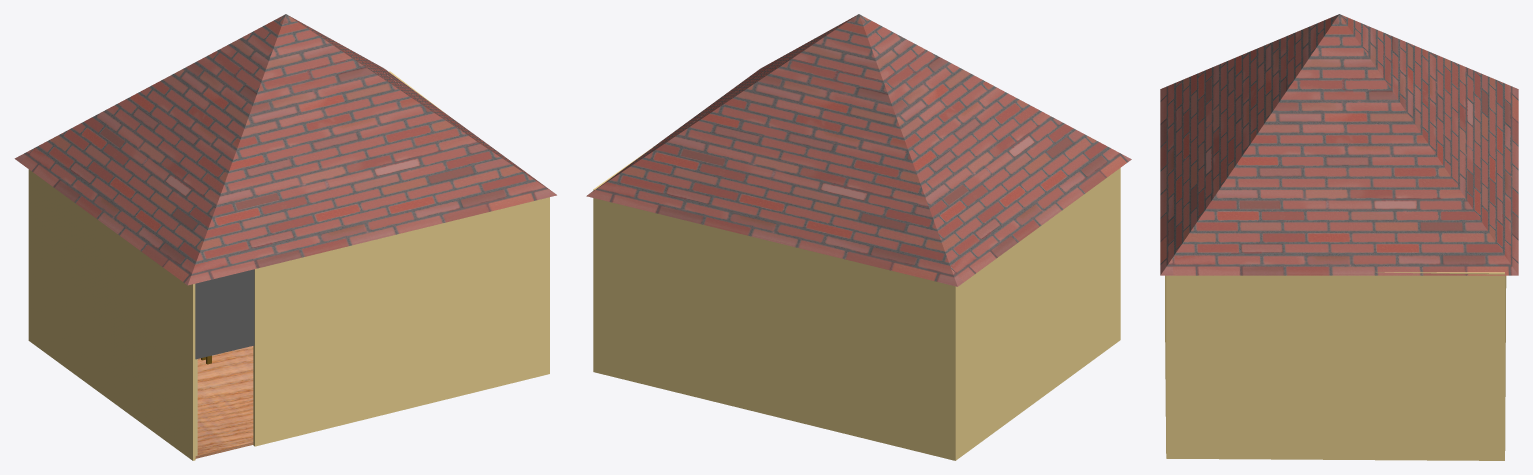
File: house.FBX
The picture shows the model from 3 angles, left to right: view 1: azimuth 30°, elevation 25°; view 2: azimuth 150°, elevation 25°; view 3: azimuth 270°, elevation 25°; orthographic projection. The views are drawn at different scales.
Parts seen in each view (by area): view 1: Wall115, Pyramid017, Box338, Wall121; view 2: Wall115, Pyramid017; view 3: Pyramid017, Wall115.
Part boxes in pixels (<box>): Wall115: <box>28,71,549,460</box>; Pyramid017: <box>14,14,556,285</box>; Box338: <box>195,346,253,458</box>; Wall121: <box>195,269,254,359</box>; Wall115: <box>593,145,1120,460</box>; Pyramid017: <box>586,14,1131,286</box>; Pyramid017: <box>1160,14,1518,275</box>; Wall115: <box>1165,272,1506,460</box>.
Size of the model in its own units: 309 by 251 by 274.
